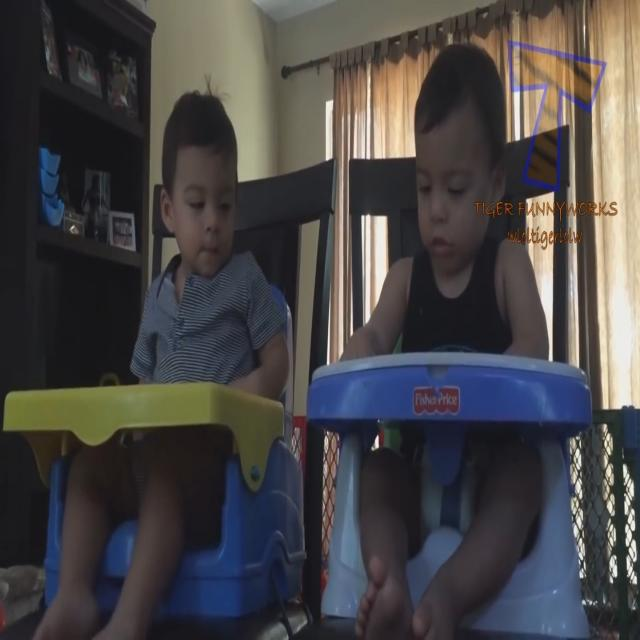safe: (350, 23, 522, 377), (106, 71, 280, 405)
